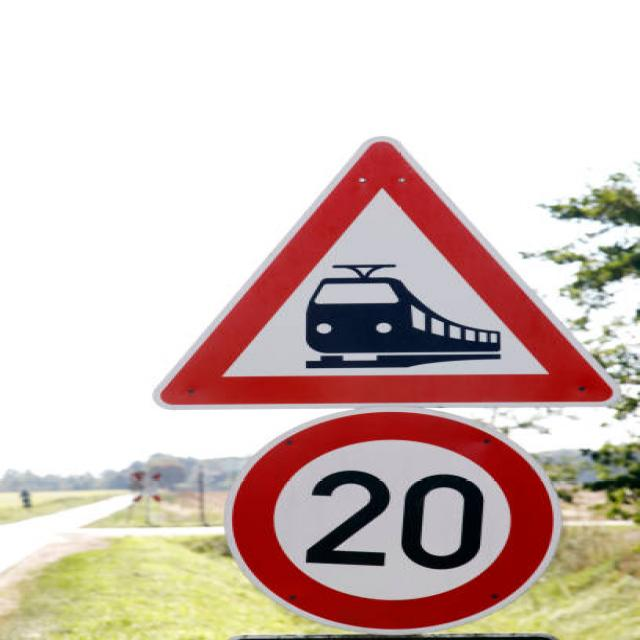speed_limit_20: (200, 401, 585, 637)
